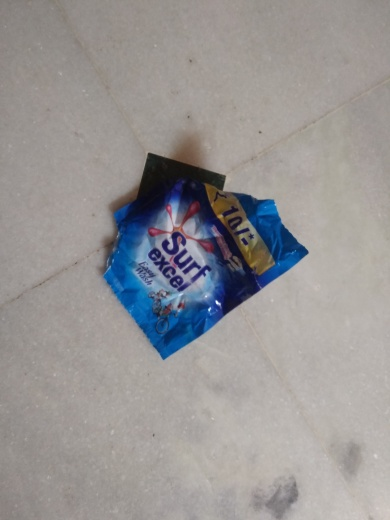surf: (97, 173, 309, 366)
